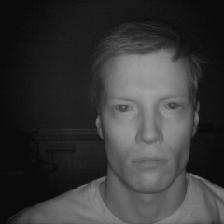normal: (81, 24, 218, 194)
